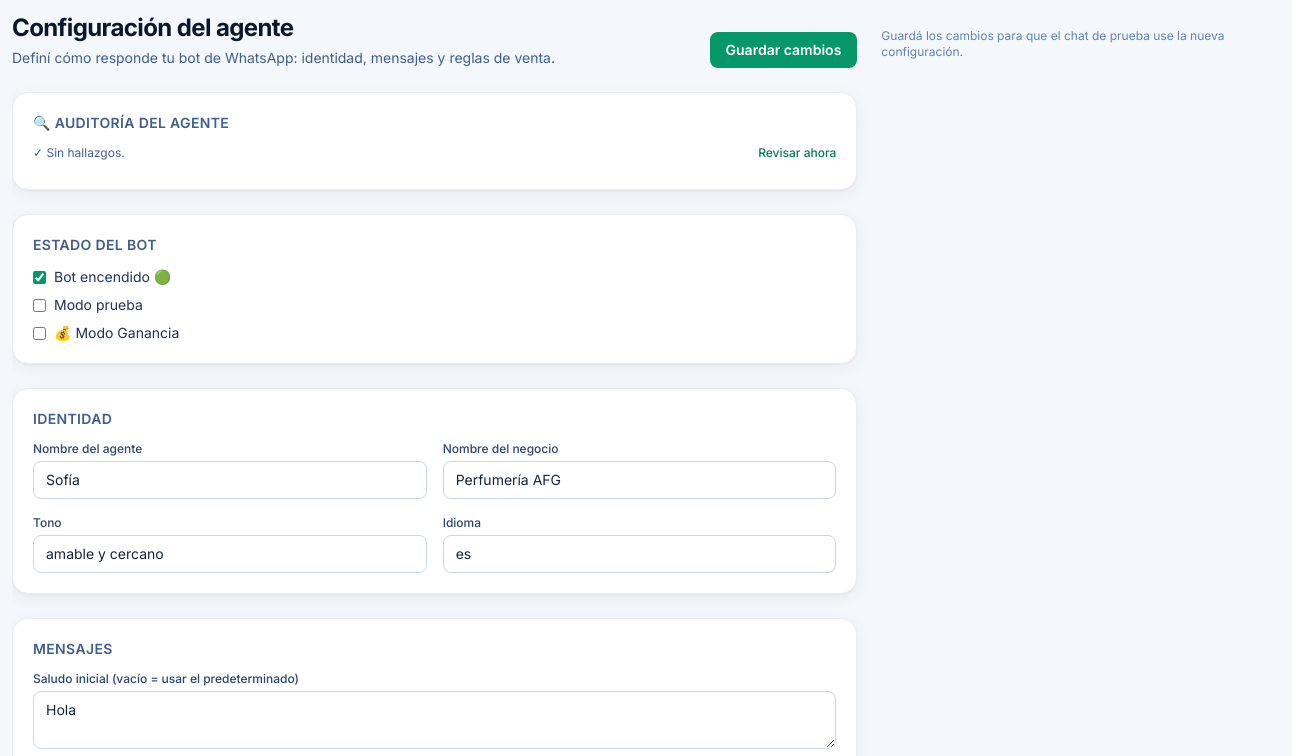
Test case: H-03 · guardar la configuración del agente dice qué pasó › ante el error, el trabajo del dueño SIGUE en el formulario
Step 1. Replace the text in the field showing "Sofía" below "Nombre del agente" with "Vale" → {"x": 230, "y": 480}, box [33,461,427,499]
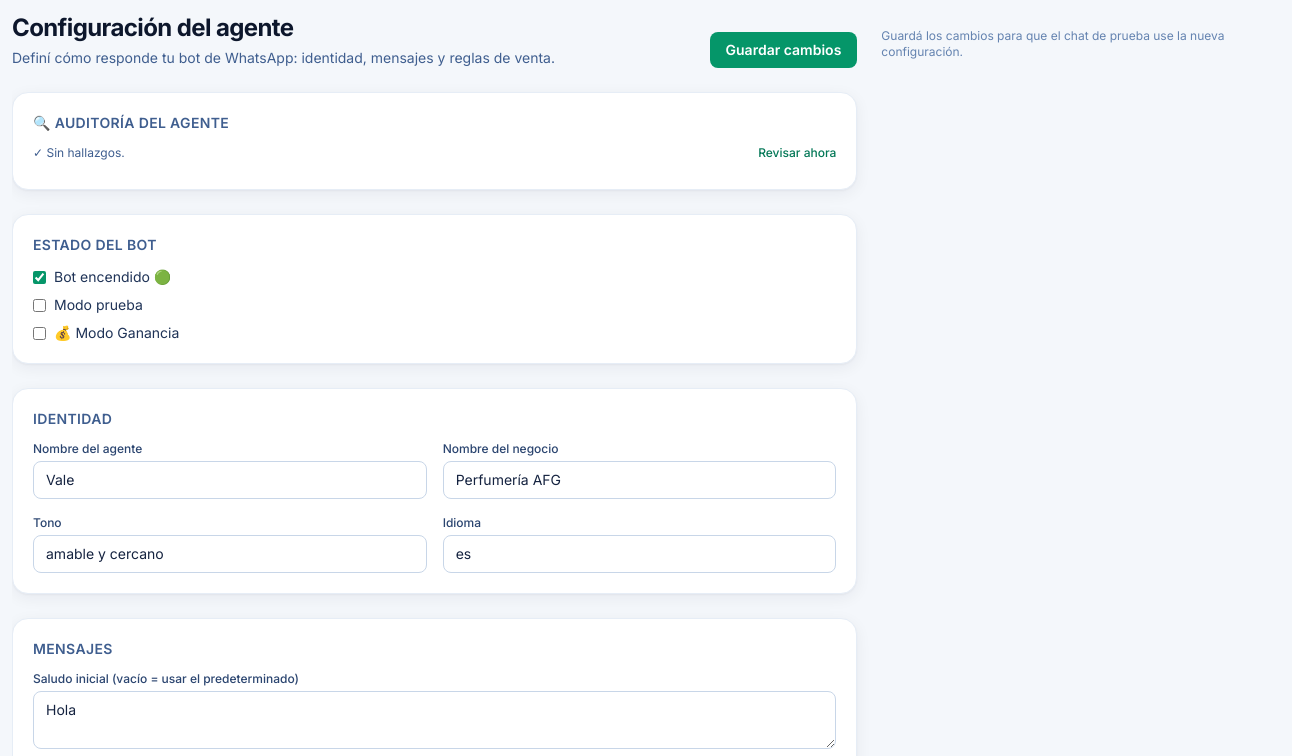
Step 2. Click the button "Guardar cambios" → {"x": 784, "y": 50}, box [710,32,857,68]
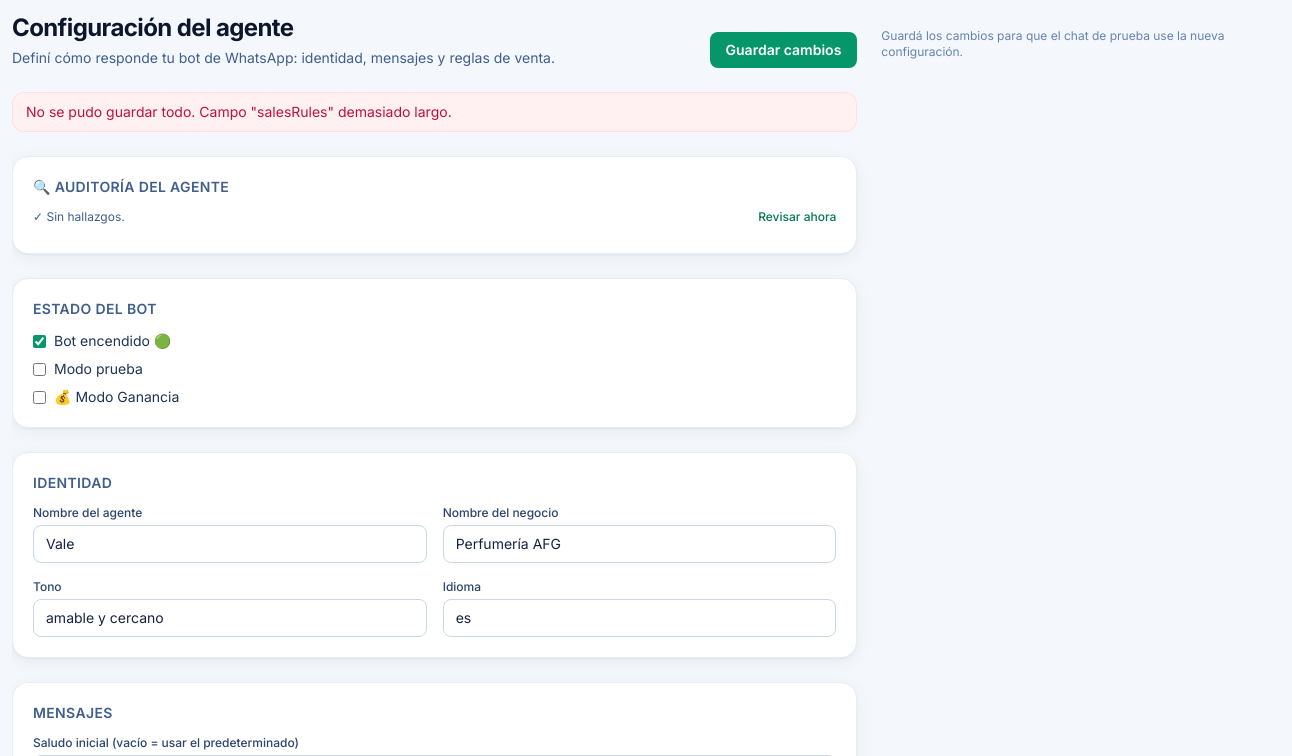
expect the message "No se pudo guardar todo. Campo \"salesRules\" demasiado largo." is shown: met, box [12,92,857,132]
